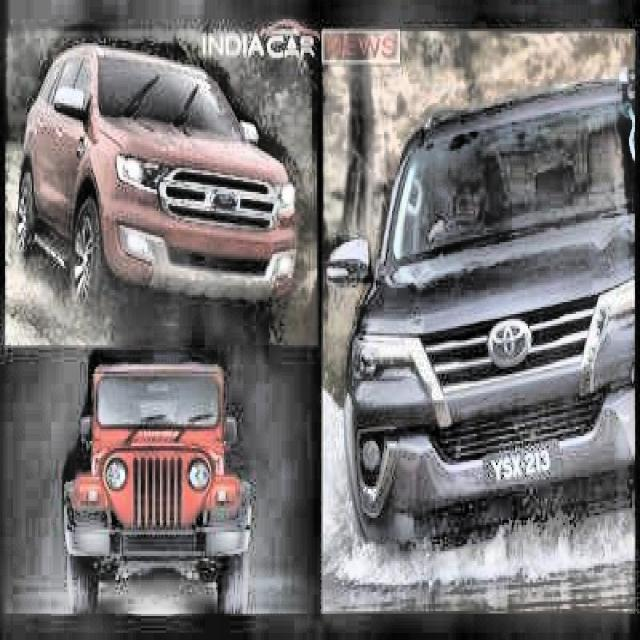license_plate: (486, 439, 558, 498)
